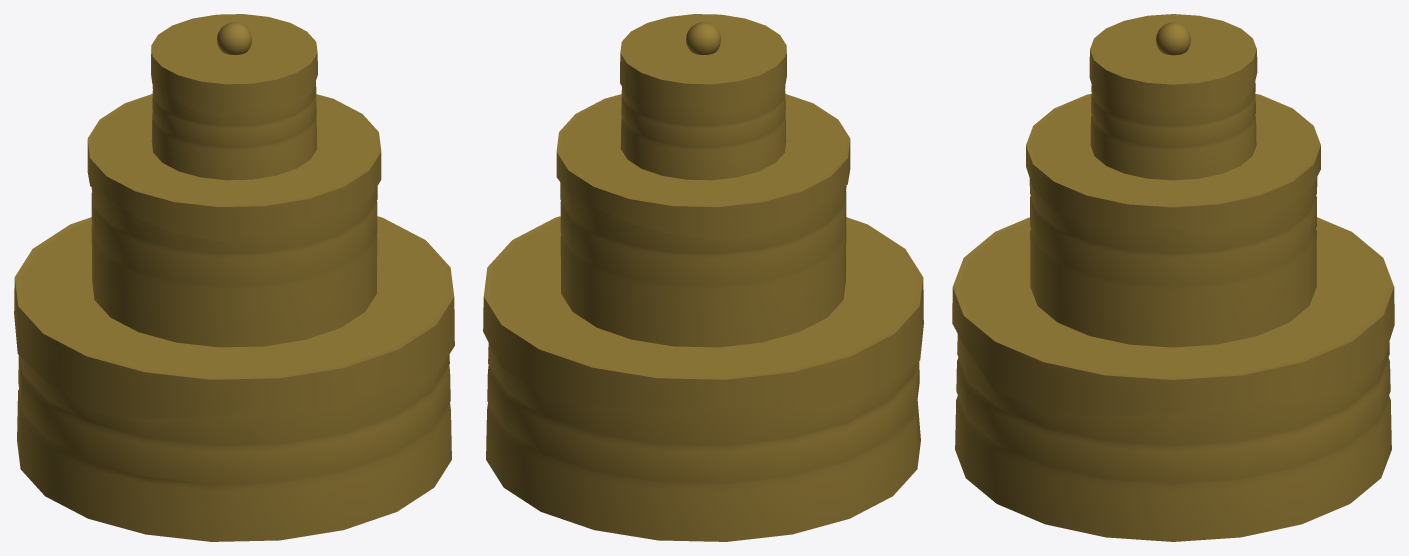
File: Gato_Dor.fbx
3 views of the same model, side by side, from view 1: azimuth 30°, elevation 25°; view 2: azimuth 150°, elevation 25°; view 3: azimuth 270°, elevation 25° (orthographic).
Visible parts, largest first — view 1: pCylinder1, pSphere1; view 2: pCylinder1, pSphere1; view 3: pCylinder1, pSphere1.
Part boxes in pixels (x1=…): pCylinder1: x1=14, y1=14, x2=454, y2=541; pSphere1: x1=217, y1=22, x2=251, y2=54; pCylinder1: x1=483, y1=14, x2=923, y2=541; pSphere1: x1=686, y1=22, x2=720, y2=54; pCylinder1: x1=952, y1=14, x2=1394, y2=541; pSphere1: x1=1156, y1=22, x2=1190, y2=55.
Bounding box in the file's own units: 19.37 × 20.55 × 19.37.
